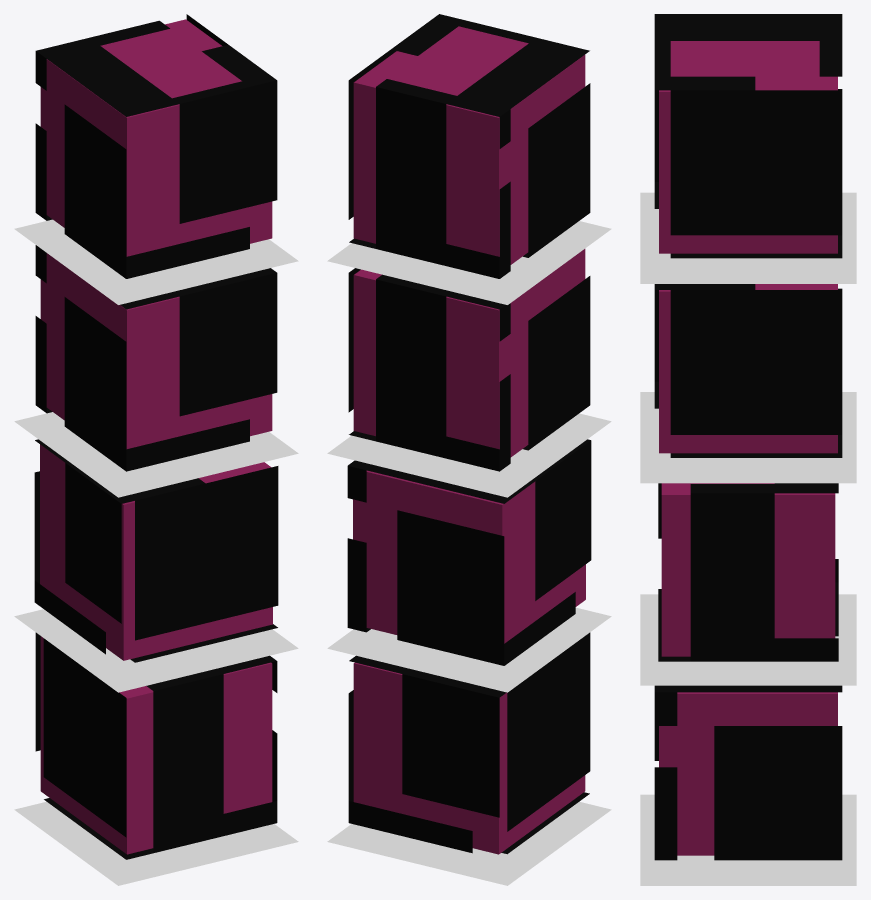
File: fourBox.fbx
3 renders of one model, left to right at view 1: azimuth 30°, elevation 25°; view 2: azimuth 150°, elevation 25°; view 3: azimuth 270°, elevation 25°, orthographic. The views are drawn at different scales.
Parts seen in each view (by area): view 1: shelf4; view 2: shelf4; view 3: shelf4.
Part boxes in pixels (<box>): shelf4: <box>14,14,298,885</box>; shelf4: <box>327,14,611,885</box>; shelf4: <box>640,14,856,885</box>.
Size of the model in its own units: 129 by 518 by 129.
